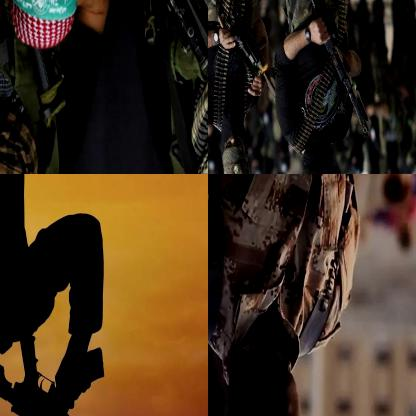rifle: (0, 335, 194, 415), (270, 0, 373, 138), (0, 0, 83, 133), (133, 0, 207, 141), (208, 0, 276, 100)
